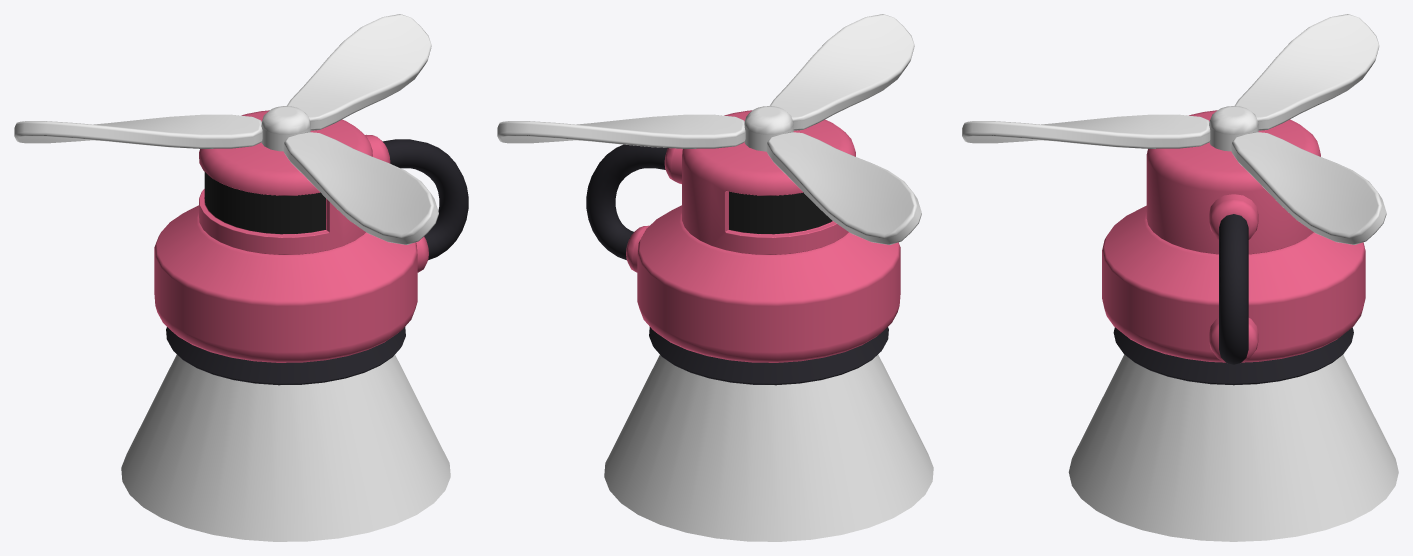
Rendered from spawner_model.glb.
3 views of the same model, side by side, from view 1: azimuth 30°, elevation 25°; view 2: azimuth 150°, elevation 25°; view 3: azimuth 270°, elevation 25° (orthographic).
Visible parts, largest first — view 1: Body, Halo, Top; view 2: Body, Halo, Top; view 3: Body, Halo, Top.
Part boxes in pixels (bbox=[...]): Body: bbox=[154, 110, 468, 385]; Halo: bbox=[121, 354, 450, 541]; Top: bbox=[14, 14, 438, 244]; Body: bbox=[586, 110, 900, 385]; Halo: bbox=[604, 354, 933, 541]; Top: bbox=[497, 14, 921, 244]; Body: bbox=[1102, 110, 1365, 385]; Halo: bbox=[1068, 354, 1398, 541]; Top: bbox=[962, 14, 1386, 244].
Bounding box in the file's own units: 3.11 × 2.59 × 2.83.
